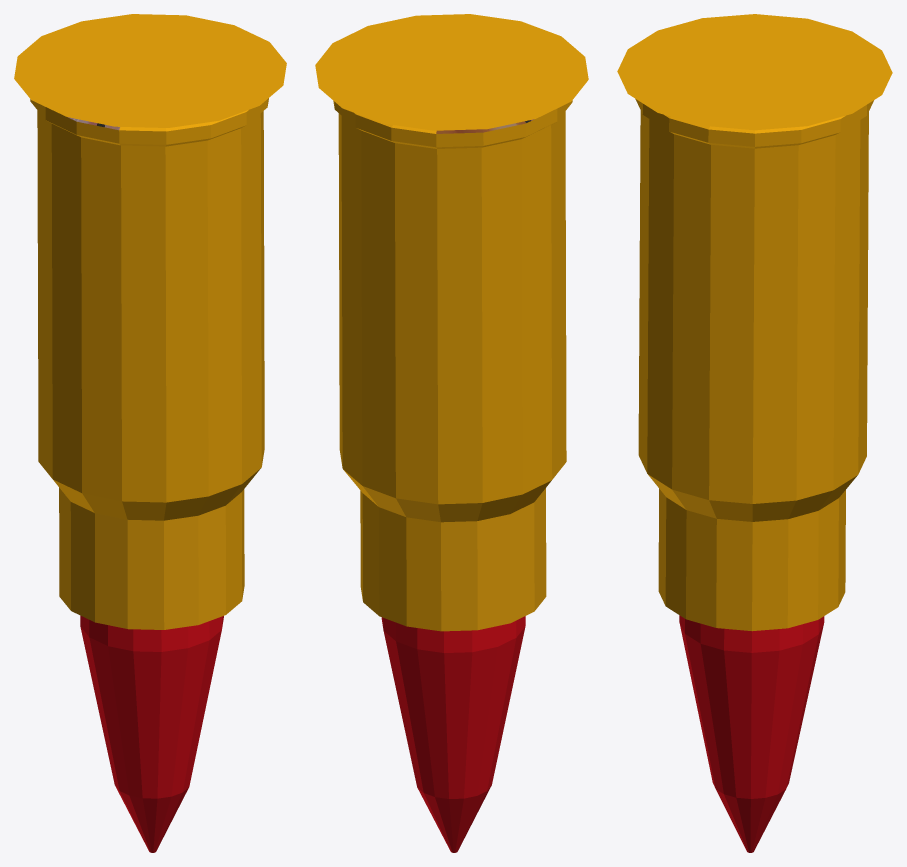
File: Bullet 1.fbx
3 renders of one model, left to right at view 1: azimuth 30°, elevation 25°; view 2: azimuth 150°, elevation 25°; view 3: azimuth 270°, elevation 25°, orthographic.
Visible parts, largest first — view 1: Cylinder; view 2: Cylinder; view 3: Cylinder.
Part boxes in pixels (<box>): Cylinder: <box>14,14,286,852</box>; Cylinder: <box>315,14,588,852</box>; Cylinder: <box>617,14,892,852</box>.
Bounding box in the file's own units: 241 × 754 × 241.
Materials: 2 (2 with a texture image).
